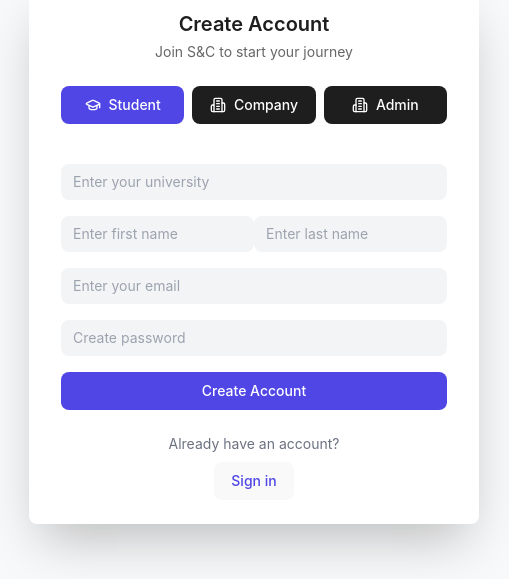
Test case: SignupScreen › toggles between user types
Expected: the field with placeholder "Enter your university" is shown, [61,164,447,200]
# Click company button
Click the button "Company".
click(254, 105)  # box [192,86,316,124]
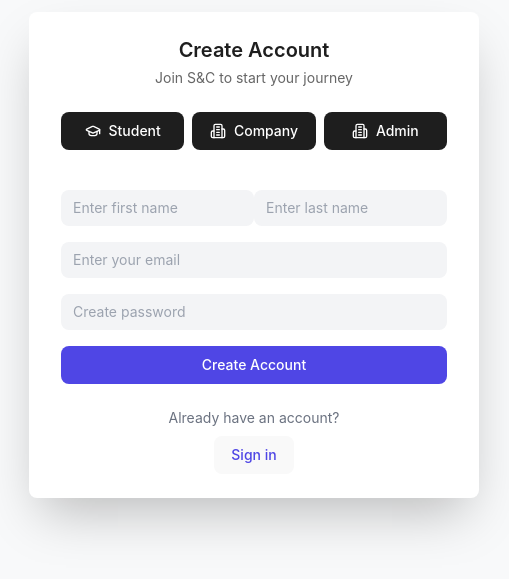
Expected: the field with placeholder "Enter your university" is not shown
# Click student button
Click the button "Student".
click(123, 131)  # box [61,112,184,150]
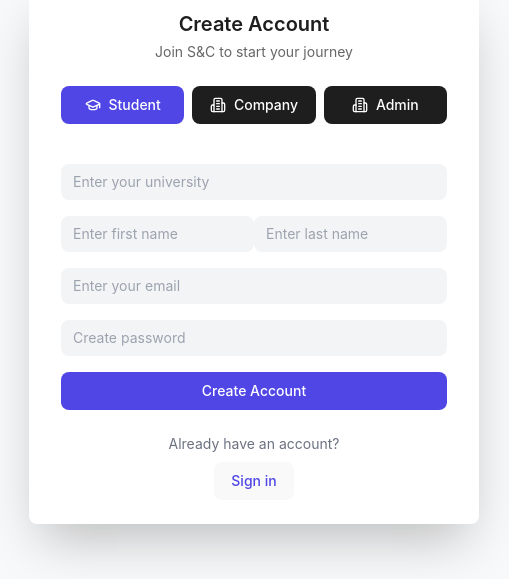
Expected: the field with placeholder "Enter your university" is shown, [61,164,447,200]
